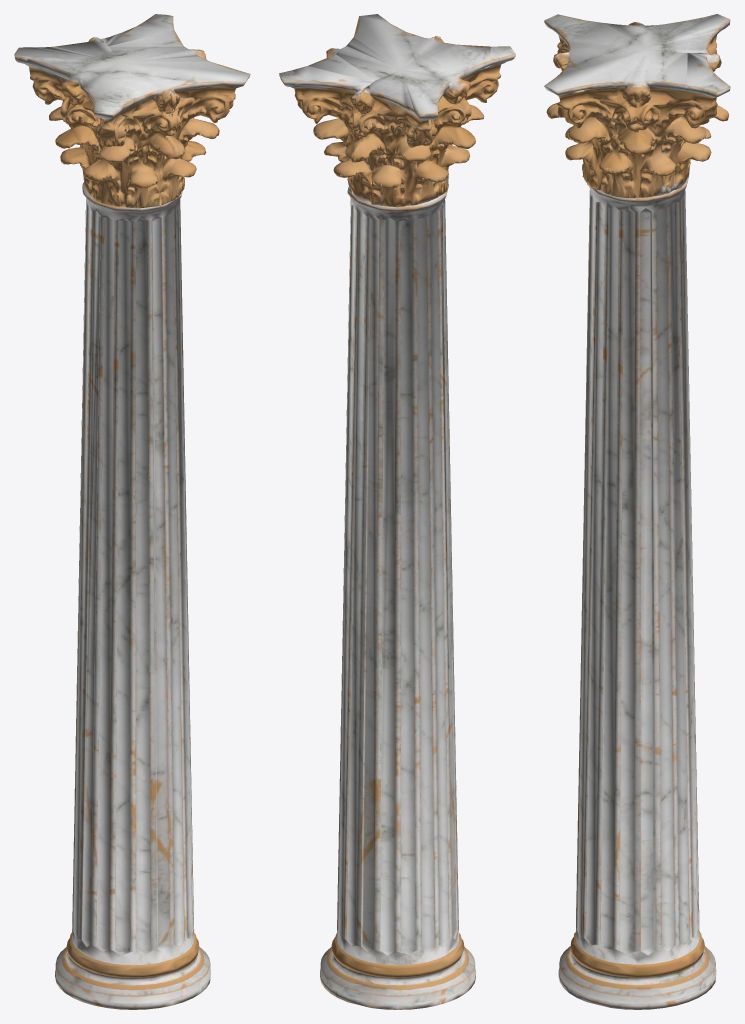
File: pillar.glb
The picture shows the model from 3 angles, left to right: view 1: azimuth 30°, elevation 25°; view 2: azimuth 150°, elevation 25°; view 3: azimuth 270°, elevation 25°; orthographic projection.
Visible parts, largest first — view 1: Corinthian Column (without label).001; view 2: Corinthian Column (without label).001; view 3: Corinthian Column (without label).001.
Boxes of the visible parts, x1,y1,x2,y2 form: Corinthian Column (without label).001: (14, 14, 250, 1009); Corinthian Column (without label).001: (279, 14, 515, 1009); Corinthian Column (without label).001: (544, 14, 730, 1009).
Bounding box in the file's own units: 3.24 × 17.76 × 3.25.
1 material, 1 textured.
